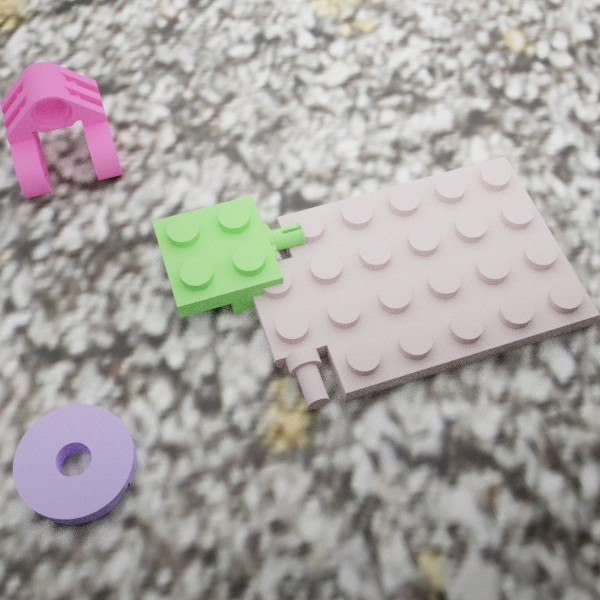lego: (243, 156, 600, 409), (152, 195, 305, 317), (0, 61, 122, 198), (12, 404, 137, 524)
